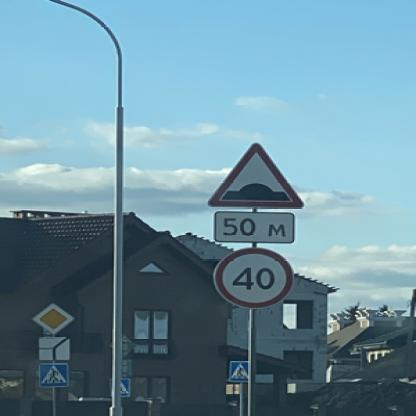crosswalk: (36, 361, 67, 386), (107, 377, 129, 395), (227, 361, 247, 379)
speedlimit: (212, 246, 293, 308)
